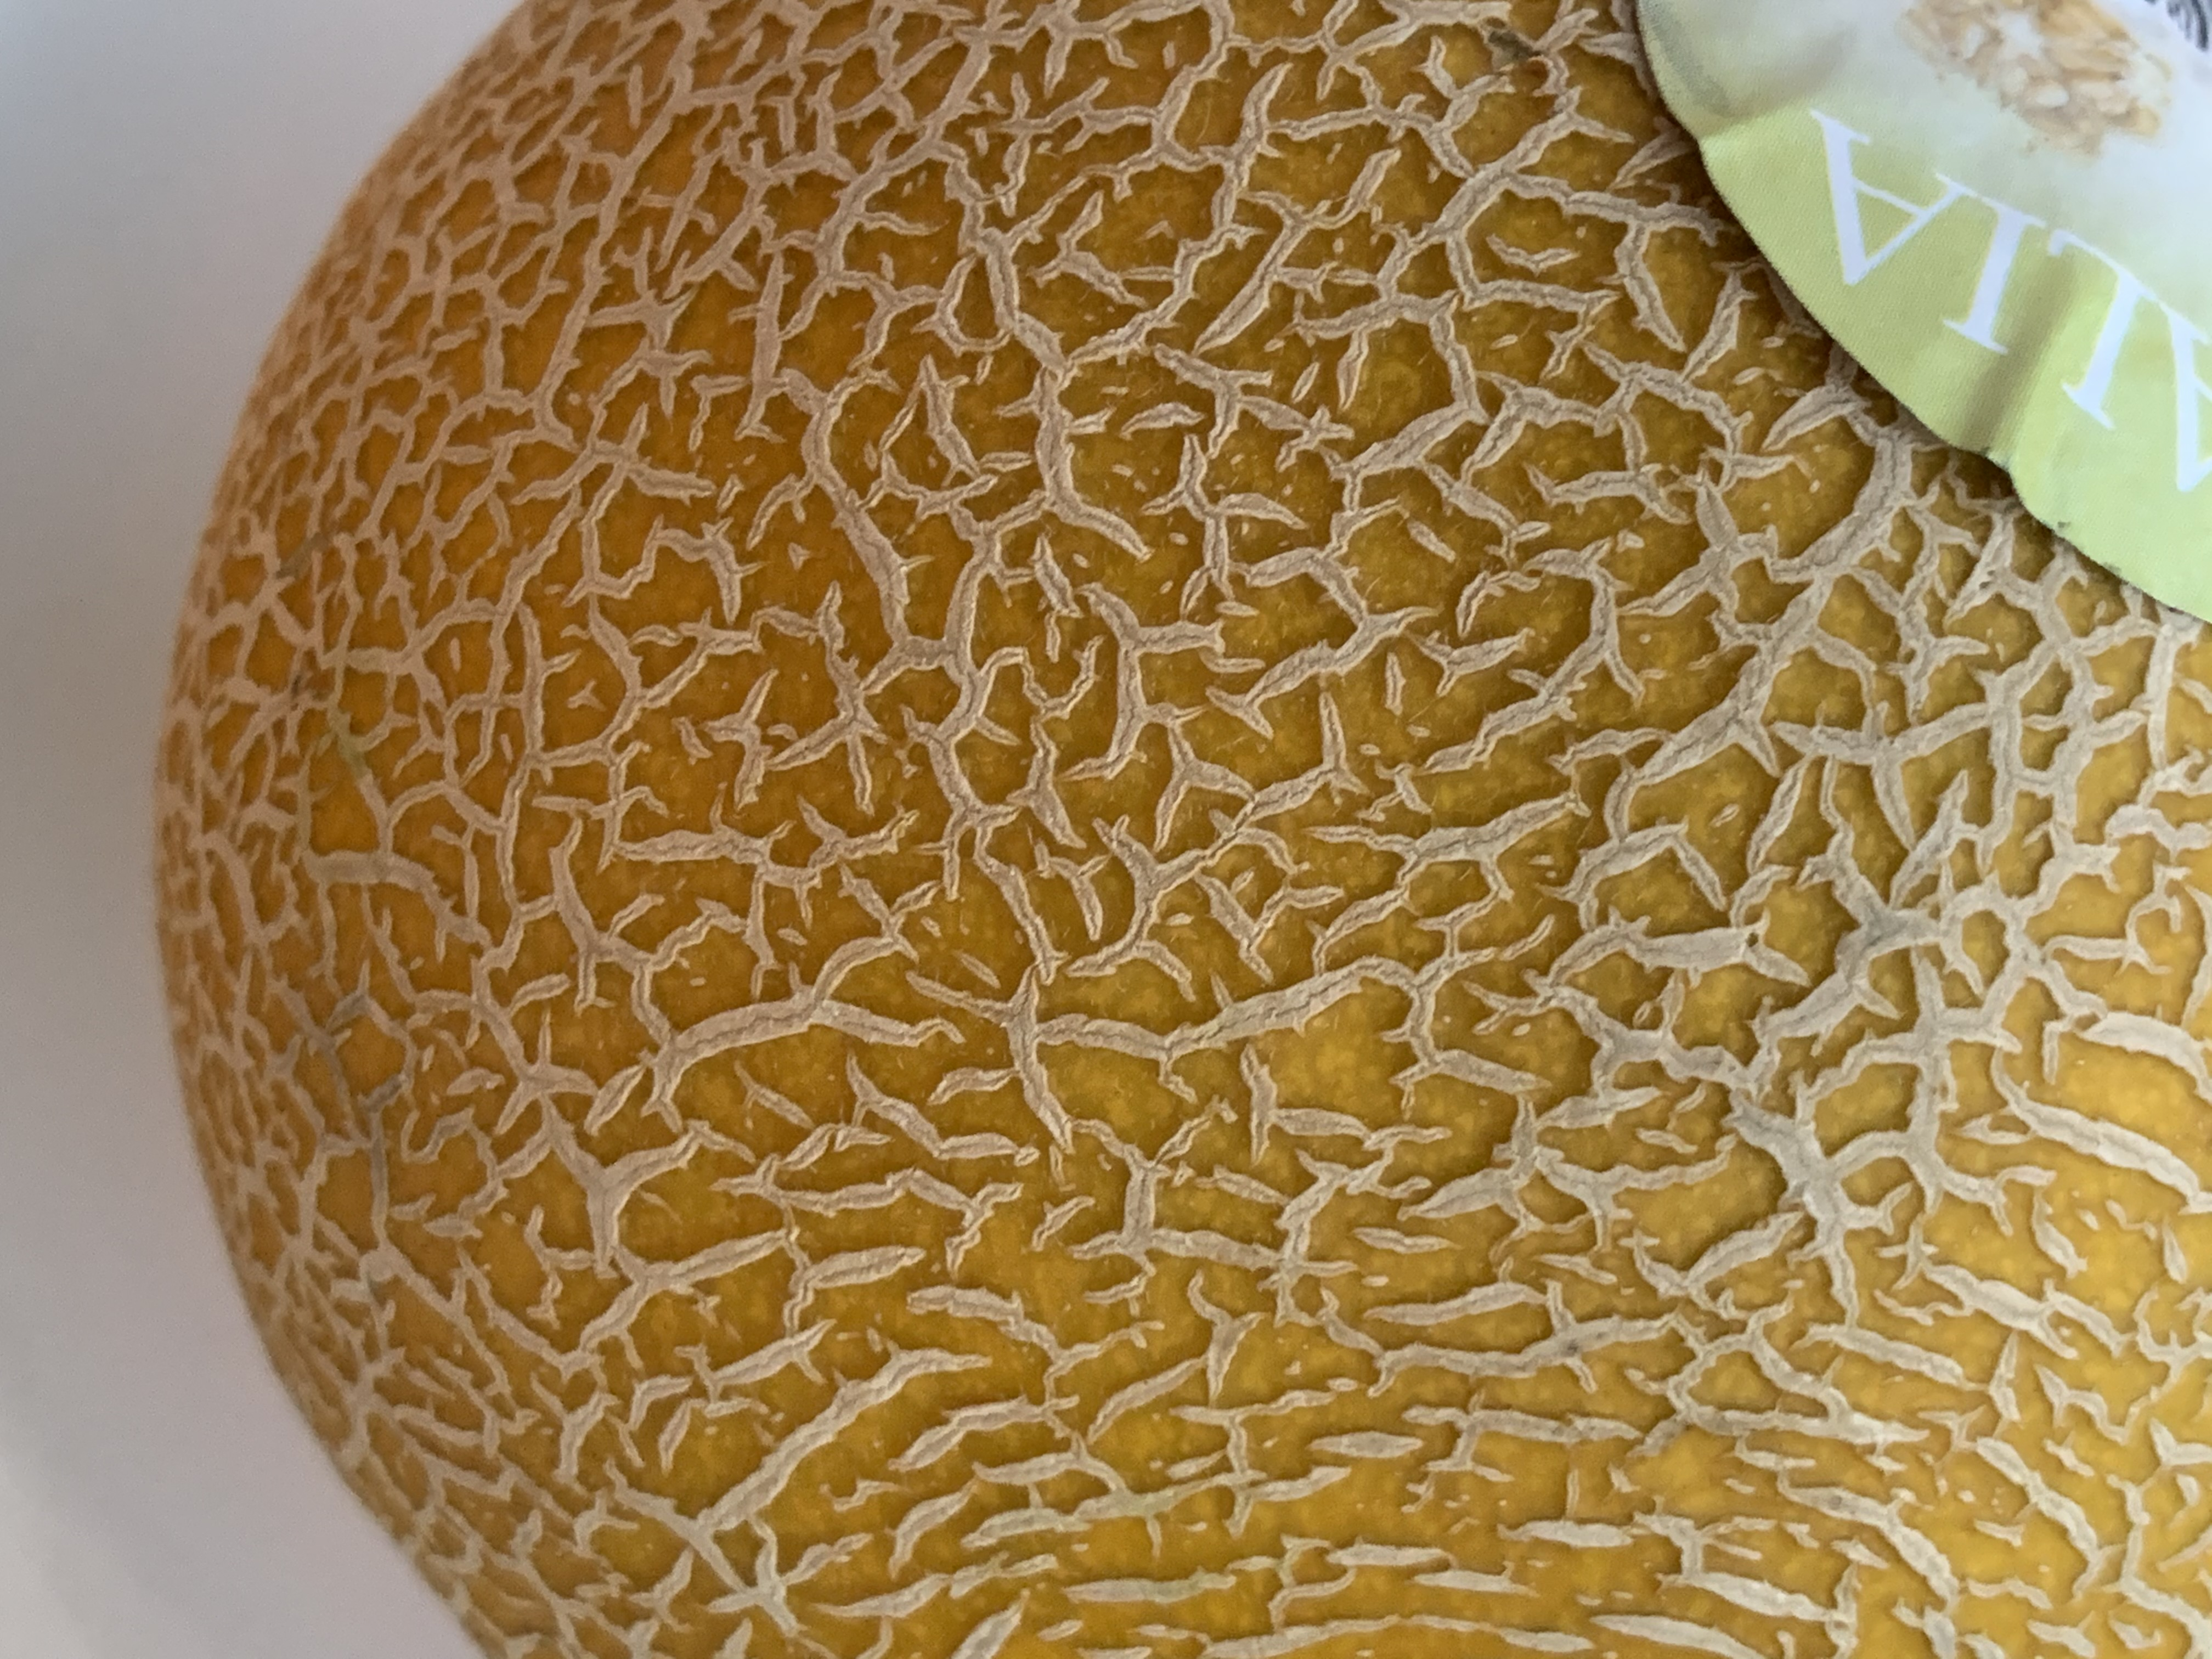galia melon: (143, 0, 2193, 1645)
